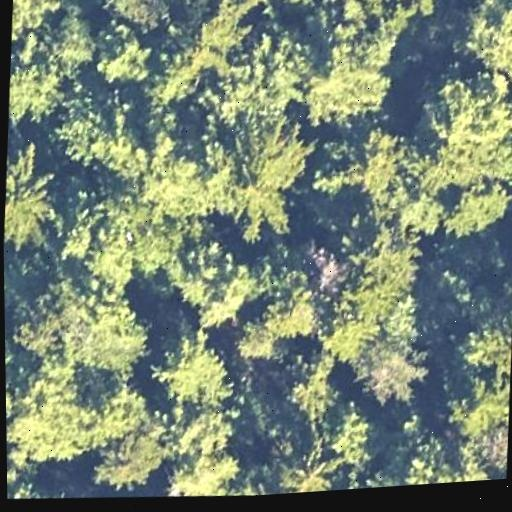tree-top: (52, 177, 197, 291), (5, 360, 151, 471), (43, 77, 171, 195), (12, 266, 152, 373), (204, 109, 317, 237), (413, 61, 512, 199), (297, 18, 396, 130), (441, 305, 512, 438), (169, 235, 260, 335), (152, 320, 246, 416), (368, 412, 486, 488), (159, 0, 255, 80), (325, 125, 406, 214), (136, 136, 215, 222), (86, 420, 174, 496), (309, 399, 392, 472), (37, 0, 110, 82), (2, 149, 60, 252), (352, 222, 426, 299), (286, 0, 463, 32), (97, 0, 254, 33), (451, 0, 512, 84), (8, 47, 71, 123), (164, 446, 246, 501), (278, 348, 344, 415), (356, 337, 423, 402), (163, 402, 240, 458), (259, 273, 319, 344), (88, 20, 146, 90), (445, 177, 510, 237), (263, 447, 338, 495), (11, 0, 81, 39), (475, 416, 509, 474)
